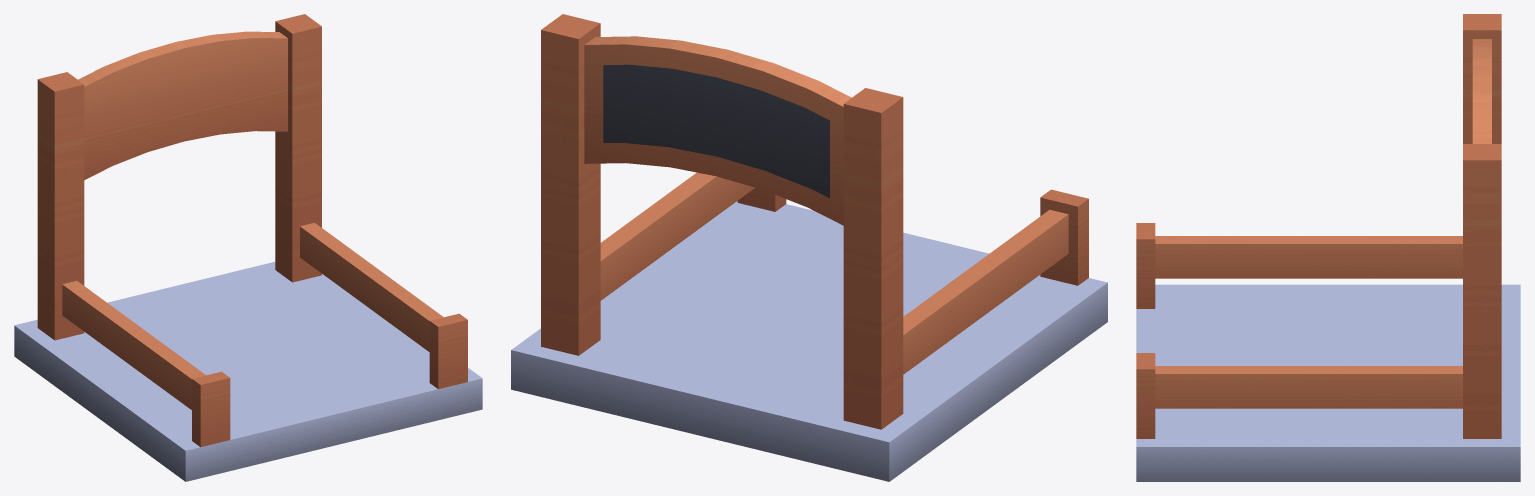
The model's file is path_exit.glb.
The picture shows the model from 3 angles, left to right: view 1: azimuth 30°, elevation 25°; view 2: azimuth 150°, elevation 25°; view 3: azimuth 270°, elevation 25°; orthographic projection. The views are drawn at different scales.
Parts seen in each view (by area): view 1: path-exit; view 2: path-exit; view 3: path-exit.
Part boxes in pixels (x1,y1,x2,y2): path-exit: [14, 14, 482, 481]; path-exit: [511, 14, 1107, 481]; path-exit: [1136, 14, 1520, 481].
Size of the model in its own units: 1 by 0.925 by 1.
1 material, 1 textured.
